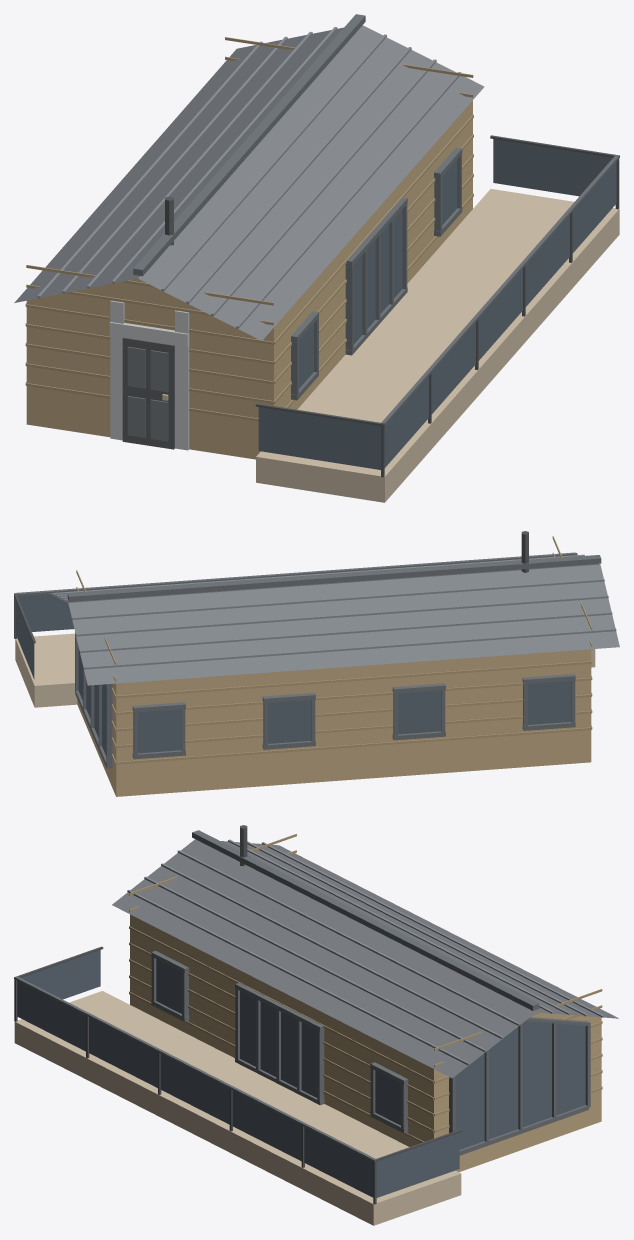
3 views of the same model, one above another, from view 1: azimuth 30°, elevation 25°; view 2: azimuth 150°, elevation 25°; view 3: azimuth 270°, elevation 25° (orthographic). The views are drawn at different scales.
Parts seen in each view (by area): view 1: slate, larch, door_wood, slate_dk, slate_lt, door_wood_p, window_glass_006, stone_band, window_glass_007, door_dark_p, door_dark, pipe (+11 smaller); view 2: slate, door_wood, slate_dk, slate_lt, door_wood_p, larch, window_glass_015, window_glass_017, window_glass_016, window_glass_018, window_glass_005, window_glass_014 (+2 smaller); view 3: slate, larch, door_wood, slate_dk, window_glass_014, slate_lt, door_wood_p, window_glass_007, window_glass_004, window_glass_003, window_glass_005, window_glass_001 (+9 smaller).
Boxes of the visible parts, bbox=[...] form: slate: bbox=[14, 25, 484, 340]; larch: bbox=[256, 189, 619, 502]; door_wood: bbox=[26, 100, 472, 459]; slate_dk: bbox=[133, 14, 619, 425]; slate_lt: bbox=[37, 27, 461, 328]; door_wood_p: bbox=[25, 37, 473, 421]; window_glass_006: bbox=[258, 407, 380, 469]; stone_band: bbox=[109, 300, 189, 450]; window_glass_007: bbox=[493, 139, 612, 196]; door_dark_p: bbox=[127, 346, 168, 441]; door_dark: bbox=[122, 337, 174, 449]; pipe: bbox=[165, 135, 619, 477]; slate: bbox=[49, 564, 619, 685]; door_wood: bbox=[77, 649, 591, 796]; slate_dk: bbox=[15, 552, 601, 768]; slate_lt: bbox=[52, 554, 616, 669]; door_wood_p: bbox=[76, 536, 592, 764]; larch: bbox=[15, 633, 595, 707]; window_glass_015: bbox=[138, 709, 181, 753]; window_glass_017: bbox=[398, 690, 440, 734]; window_glass_016: bbox=[268, 700, 310, 743]; window_glass_018: bbox=[528, 681, 570, 724]; window_glass_005: bbox=[17, 594, 74, 631]; window_glass_014: bbox=[78, 648, 106, 755]; slate: bbox=[112, 839, 618, 1078]; larch: bbox=[14, 991, 461, 1225]; door_wood: bbox=[130, 856, 601, 1172]; slate_dk: bbox=[14, 830, 590, 1161]; window_glass_014: bbox=[455, 1021, 585, 1149]; slate_lt: bbox=[127, 839, 603, 1065]; door_wood_p: bbox=[129, 834, 602, 1142]; window_glass_007: bbox=[376, 1132, 459, 1197]; window_glass_004: bbox=[232, 1090, 301, 1161]; window_glass_003: bbox=[160, 1054, 229, 1124]; window_glass_005: bbox=[304, 1127, 373, 1197]; window_glass_001: bbox=[17, 981, 85, 1051].
Bounding box in the file's own units: 13.39 × 4.29 × 12.75.
